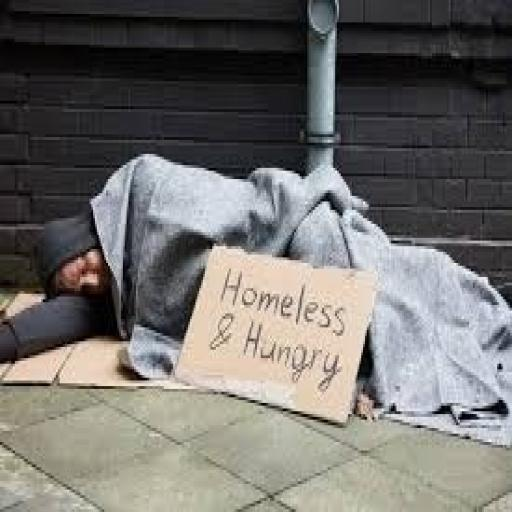sleeping: (21, 148, 510, 428)
